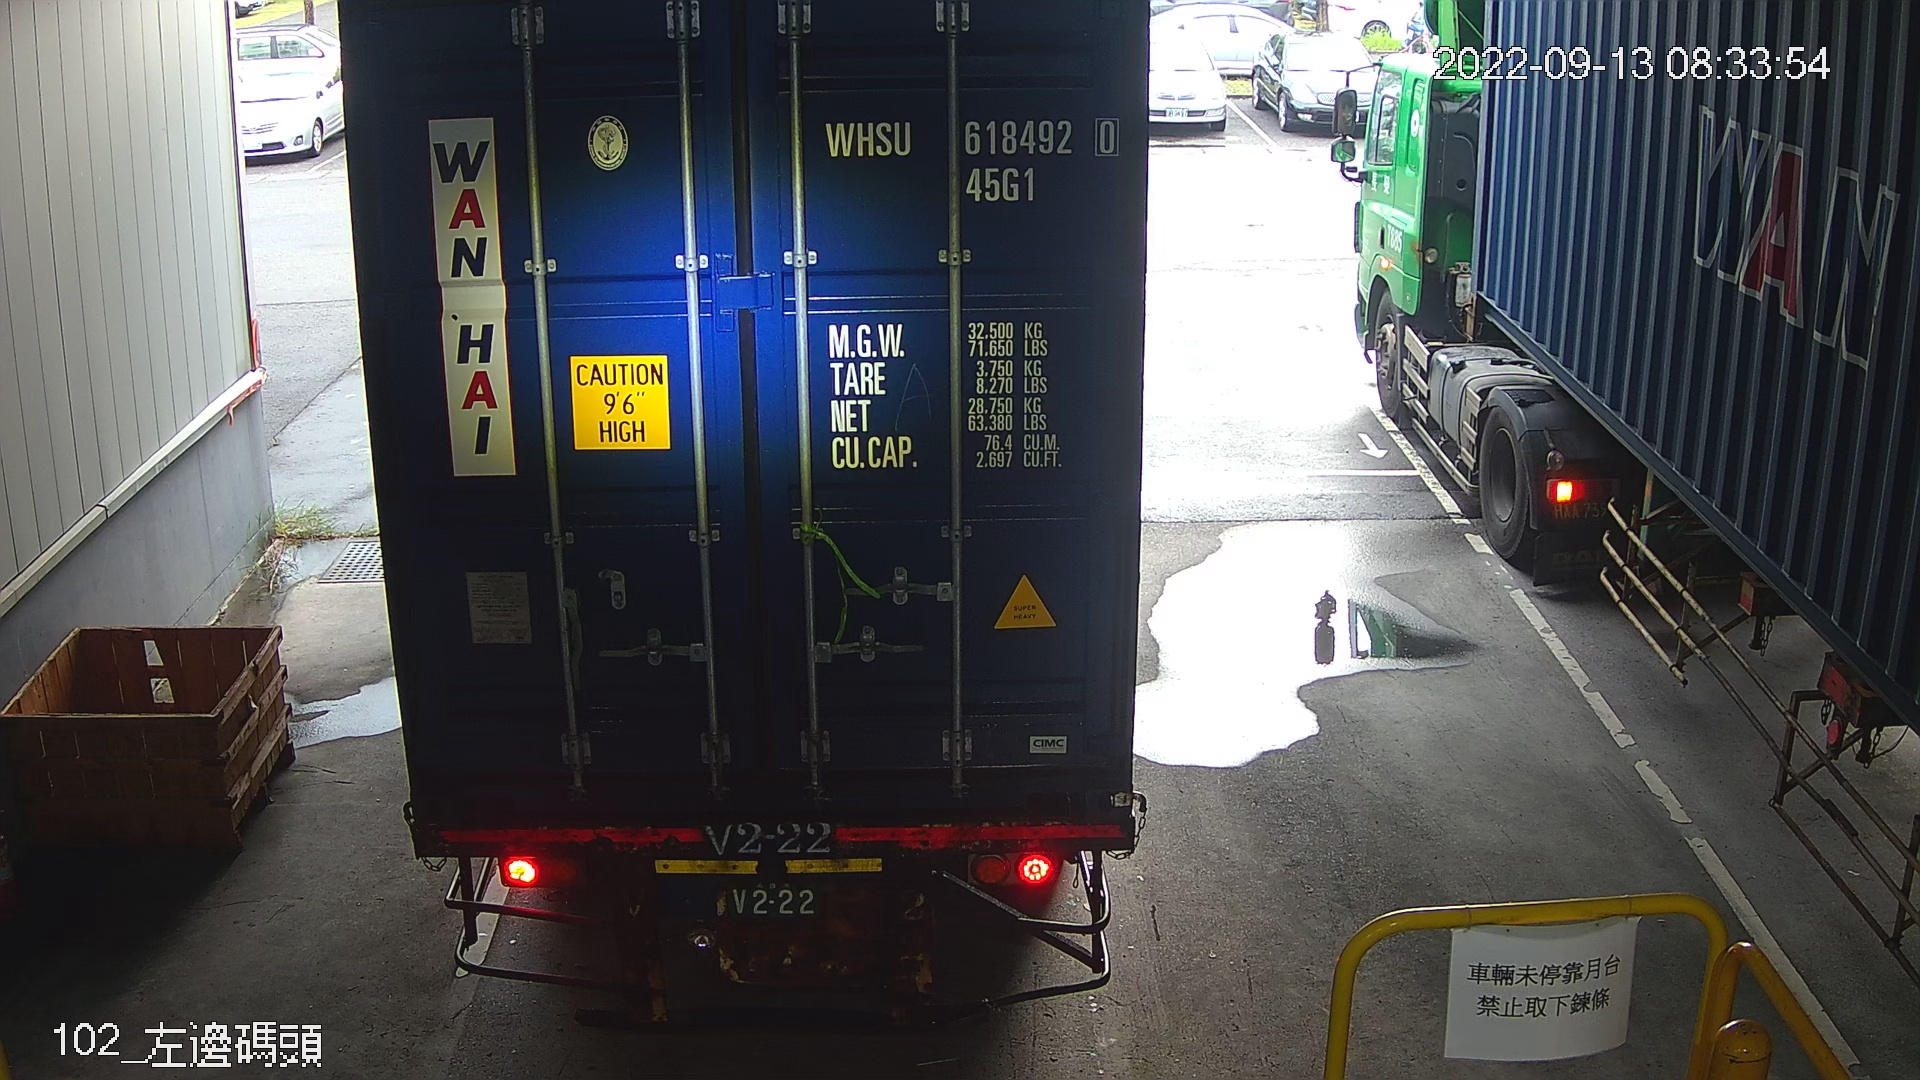container: (818, 104, 1131, 208)
